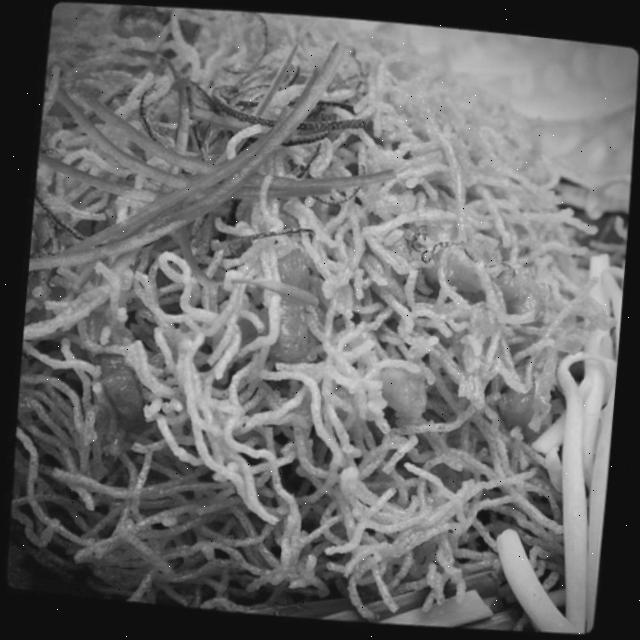面条主食: (16, 7, 611, 581)
